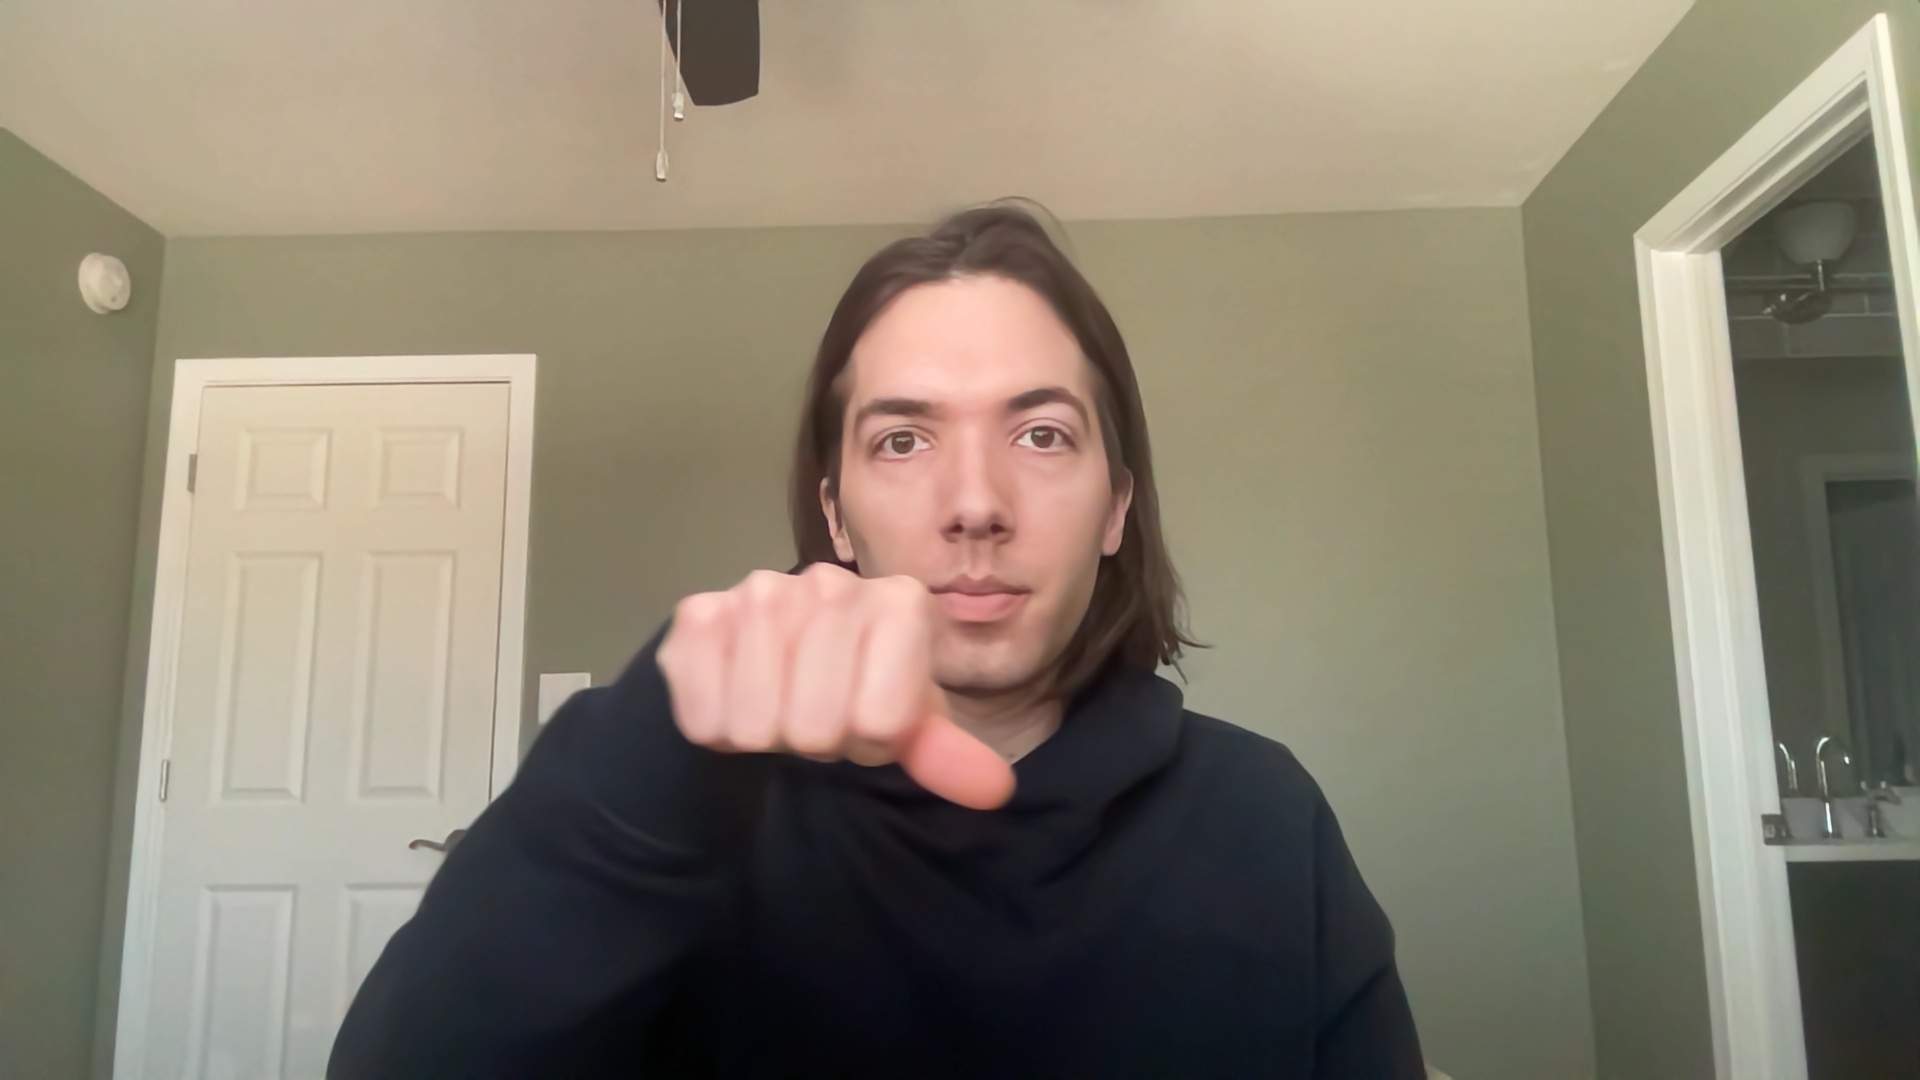Yes: (637, 545, 1039, 851)
